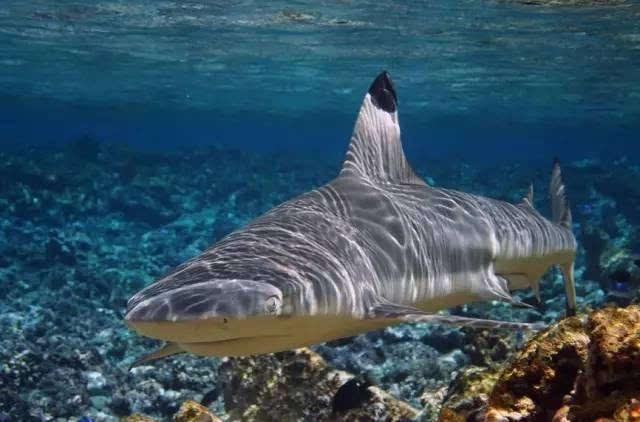fish: (123, 69, 587, 355)
